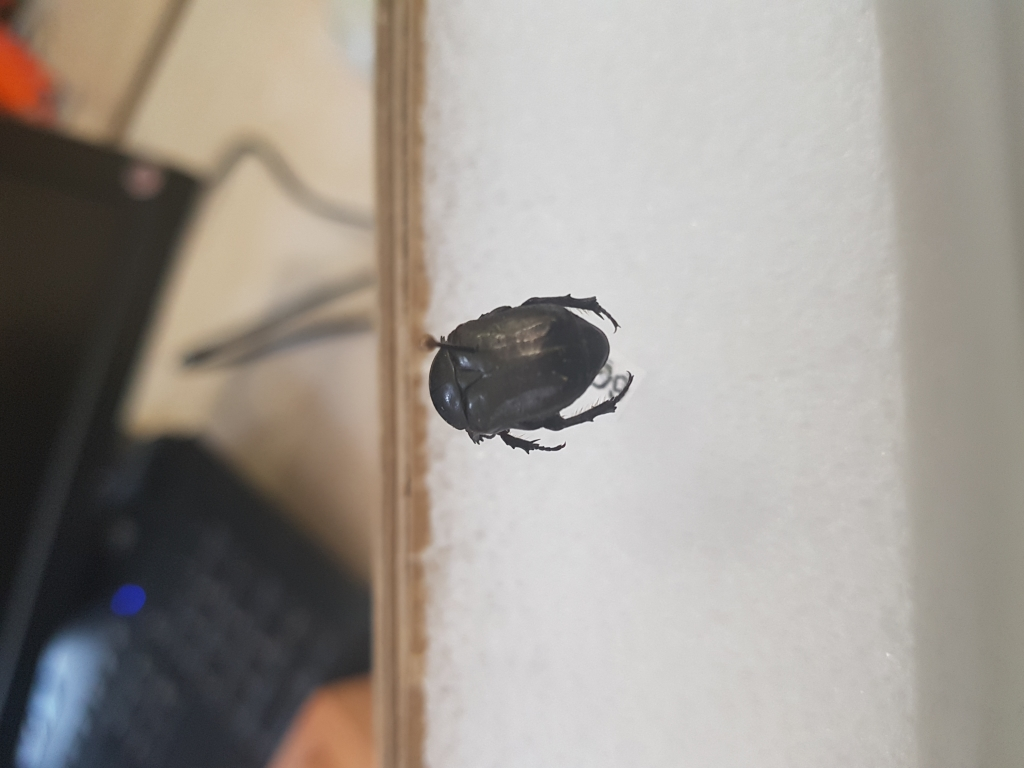Protaetia_vidua: (420, 284, 640, 457)
